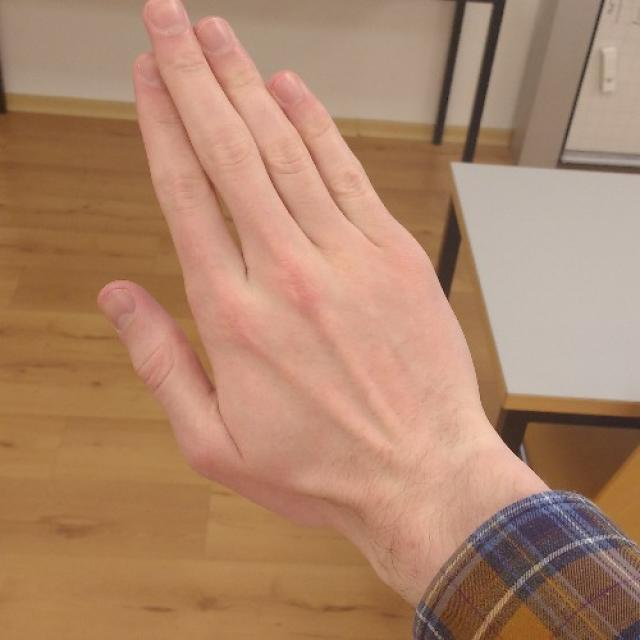paper: (100, 0, 490, 516)
